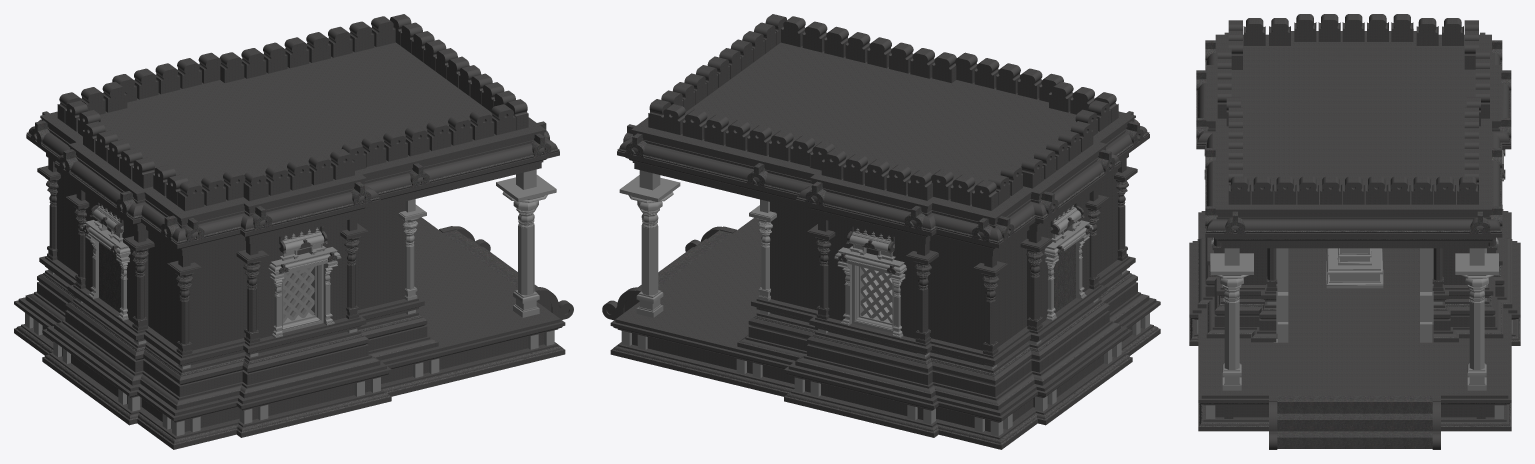
Rendered from ragaveandra-temple-compressed.glb.
3 views of the same model, side by side, from view 1: azimuth 30°, elevation 25°; view 2: azimuth 150°, elevation 25°; view 3: azimuth 270°, elevation 25° (orthographic).
Parts seen in each view (by area): view 1: object 52, object 59, object 27, object 1, 3d.dwg#8, PATHAM (×3), object 60, 3d.dwg#9, OuterShell (×2), object 29, object 28, object 63 (+31 smaller); view 2: object 52, object 59, object 27, object 1, 3d.dwg#8, object 60, PATHAM (×3), 3d.dwg#9, OuterShell (×2), object 62, object 61, object 87 (+29 smaller); view 3: object 52, object 27, object 1, object 59, 3d.dwg#9, object 60, 3d.dwg#12, object 179, 3d.dwg#8, object 66, object 68, object 70 (+22 smaller).
Boxes of the visible parts, x1,y1,x2,y2 form: object 52: (26, 42, 559, 248); object 59: (25, 169, 438, 409); object 27: (14, 217, 565, 449); object 1: (31, 111, 551, 312); 3d.dwg#8: (65, 187, 368, 343); PATHAM (×3): (37, 158, 426, 355); object 60: (46, 153, 546, 255); 3d.dwg#9: (496, 169, 556, 317); OuterShell (×2): (81, 220, 341, 275); object 29: (283, 266, 314, 322); object 28: (281, 264, 323, 332); object 63: (177, 180, 204, 211); object 52: (617, 42, 1149, 248); object 59: (737, 169, 1149, 410); object 27: (610, 217, 1160, 449); object 1: (623, 111, 1143, 312); 3d.dwg#8: (807, 187, 1109, 343); object 60: (625, 153, 1128, 256); PATHAM (×3): (749, 159, 1137, 355); 3d.dwg#9: (619, 170, 680, 317); OuterShell (×2): (834, 220, 1093, 275); object 62: (860, 267, 892, 323); object 61: (852, 264, 894, 333); object 87: (972, 180, 998, 210); object 52: (1196, 31, 1511, 237); object 27: (1189, 211, 1520, 431); object 1: (1196, 29, 1511, 448); object 59: (1197, 205, 1512, 342); 3d.dwg#9: (1210, 248, 1498, 390); object 60: (1214, 149, 1504, 248); 3d.dwg#12: (1274, 248, 1433, 342); object 179: (1326, 248, 1383, 288); 3d.dwg#8: (1212, 164, 1503, 290); object 66: (1342, 176, 1364, 204); object 68: (1388, 176, 1410, 204); object 70: (1411, 176, 1433, 204).
Bounding box in the file's own units: 7.65 × 4 × 5.04.
2 materials, 1 textured.
